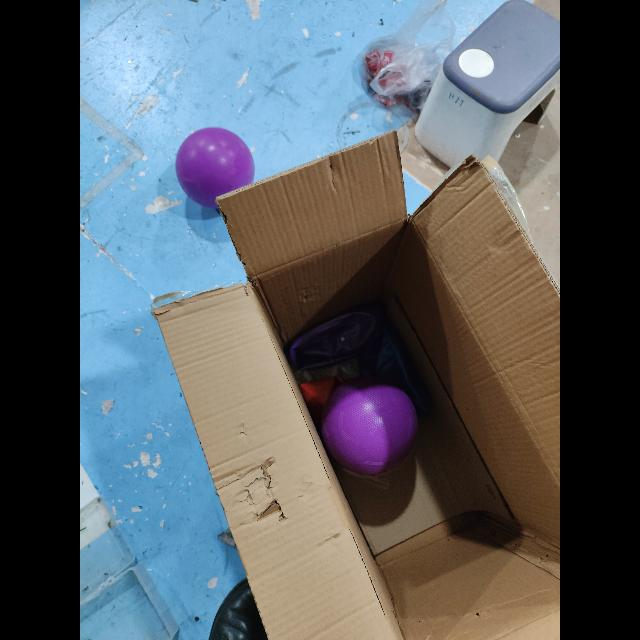P: (320, 375, 420, 477), (177, 125, 255, 208)
